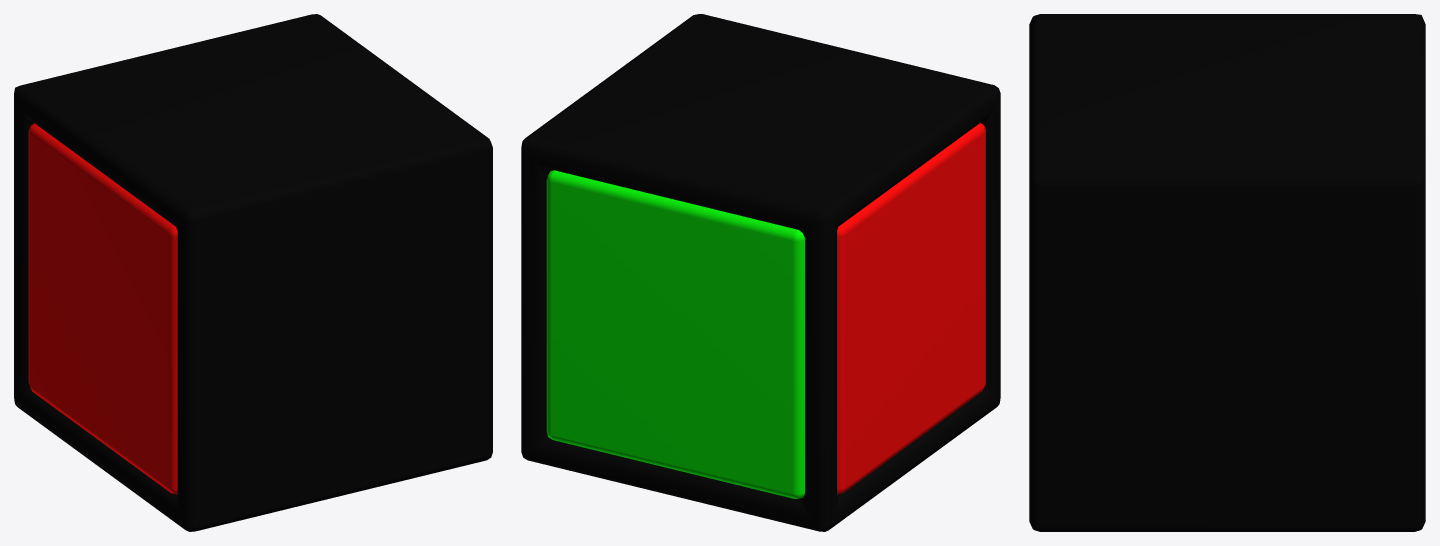
The picture shows the model from 3 angles, left to right: view 1: azimuth 30°, elevation 25°; view 2: azimuth 150°, elevation 25°; view 3: azimuth 270°, elevation 25°; orthographic projection. The views are drawn at different scales.
Visible parts, largest first — view 1: Cube.006; view 2: Cube.006; view 3: Cube.006.
Part boxes in pixels (<box>): Cube.006: <box>14,14,492,531</box>; Cube.006: <box>521,14,1000,531</box>; Cube.006: <box>1029,14,1425,531</box>.
Bounding box in the file's own units: 2 × 2 × 2.
